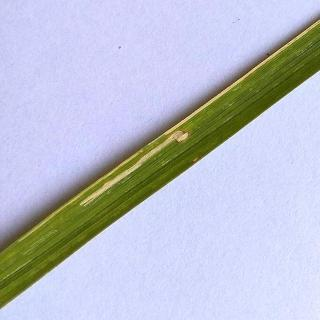Blast: (169, 117, 213, 182)
